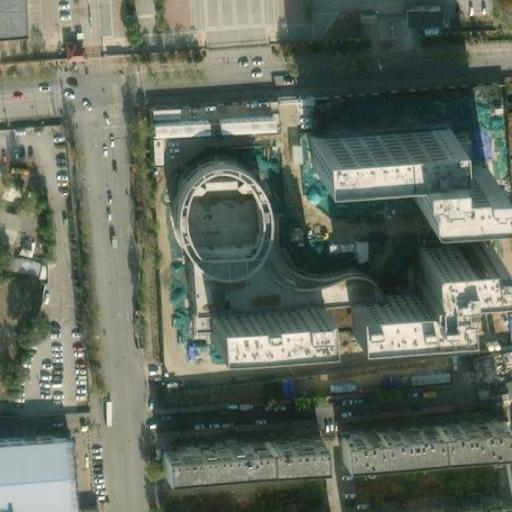building: (163, 153, 364, 323), (309, 128, 493, 214), (335, 240, 485, 316), (331, 417, 495, 456), (153, 431, 314, 469), (0, 429, 63, 507), (193, 287, 306, 328), (374, 497, 509, 512), (142, 112, 200, 133), (211, 110, 269, 130), (404, 3, 444, 30), (0, 245, 40, 271), (0, 202, 33, 232), (497, 444, 512, 473), (497, 366, 512, 390), (37, 503, 68, 512), (68, 502, 86, 512)
